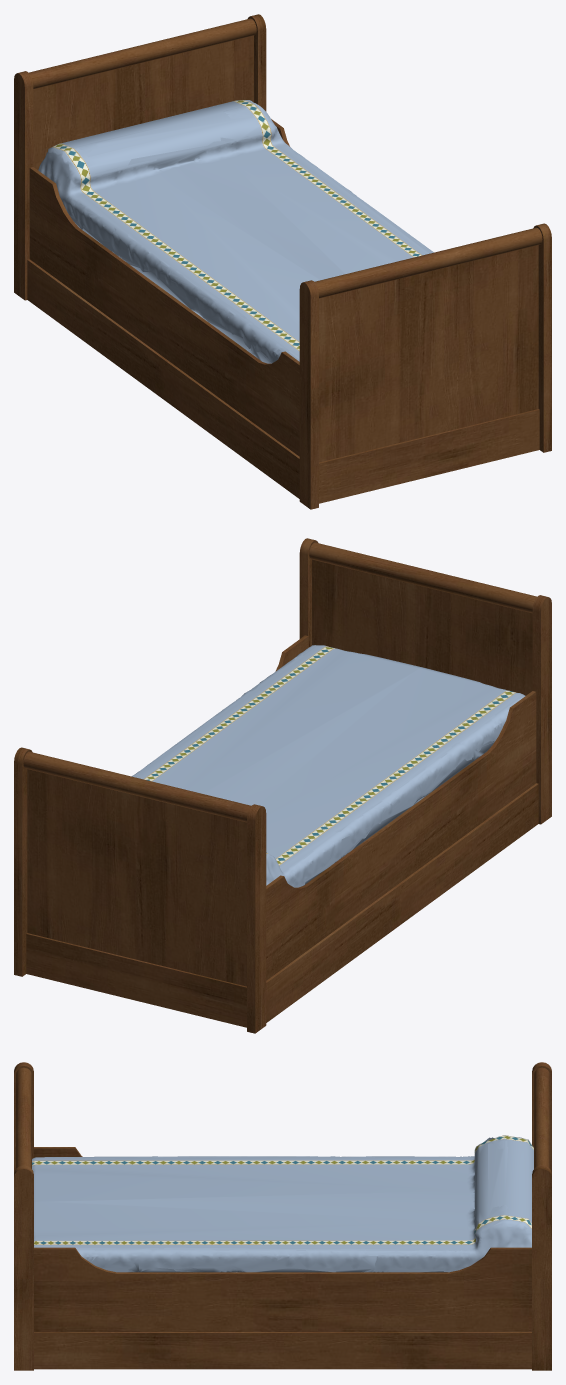
Rendered from sh_scopia_captains_bed.glb.
The picture shows the model from 3 angles, top to bottom: view 1: azimuth 30°, elevation 25°; view 2: azimuth 150°, elevation 25°; view 3: azimuth 270°, elevation 25°; orthographic projection. The views are drawn at different scales.
Bounding box in the file's own units: 0.982 × 0.866 × 2.09.
3 materials, 3 textured.
